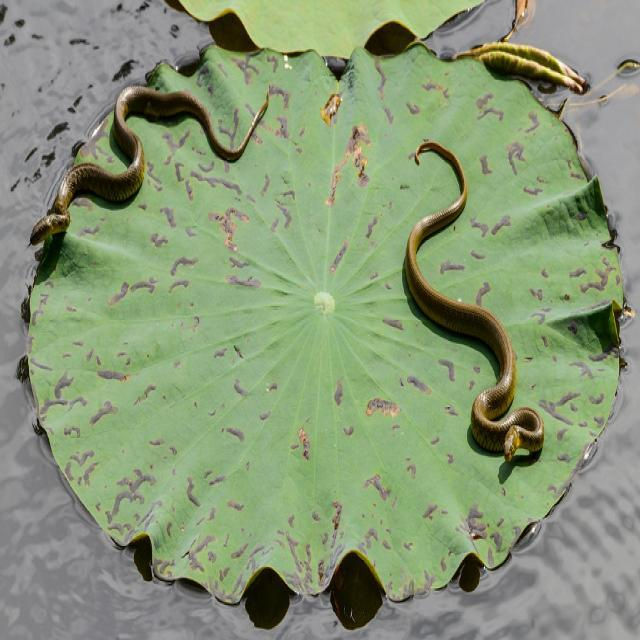Snake: (404, 138, 544, 464), (28, 79, 270, 248)
